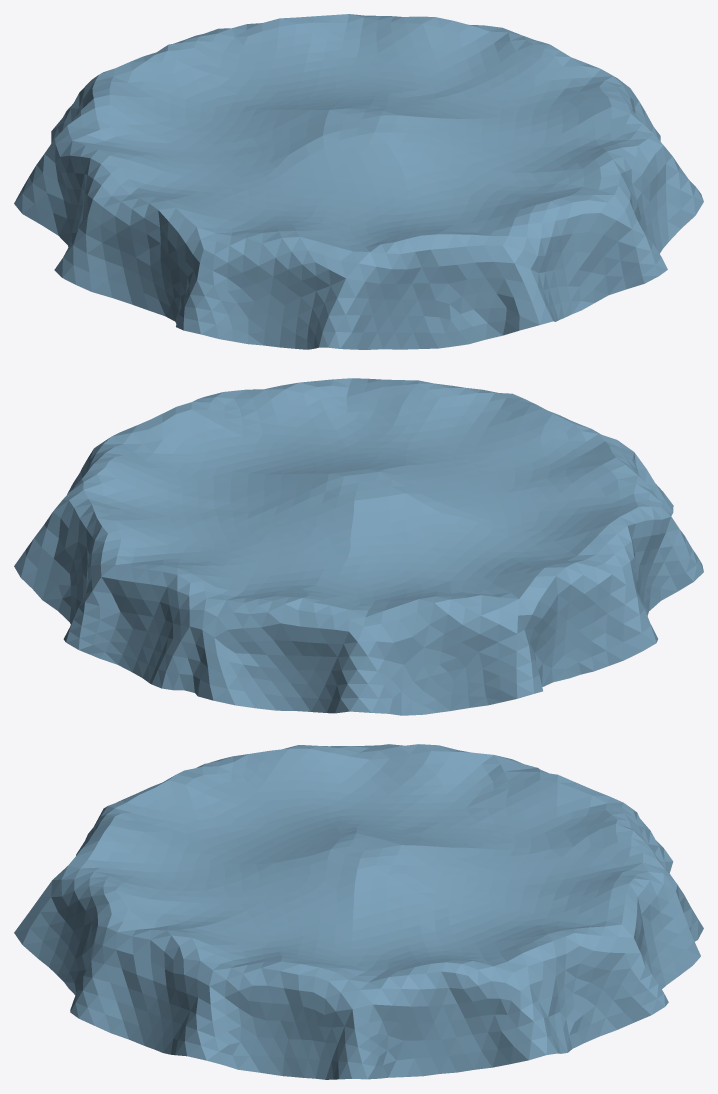
Rendered from level_1.glb.
3 views of the same model, one above another, from view 1: azimuth 30°, elevation 25°; view 2: azimuth 150°, elevation 25°; view 3: azimuth 270°, elevation 25° (orthographic).
Visible parts, largest first — view 1: world; view 2: world; view 3: world.
Boxes of the visible parts, box(x1,y1,x2,y2) form: world: box(14, 14, 703, 349); world: box(14, 378, 703, 715); world: box(14, 744, 703, 1079).
Size of the model in its own units: 0.568 by 0.0975 by 0.571.
